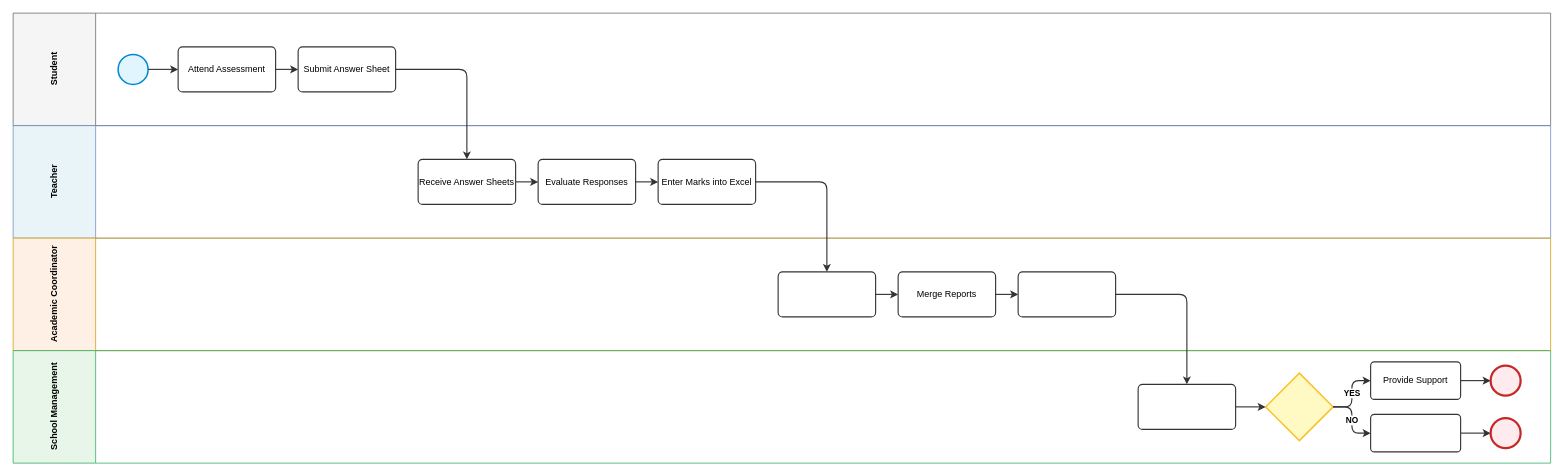
Image size: 1564x476. Some labels were removed from this diagram. Here are the shapes that lost their labels. From the top down, the centre of each, then its label:
At (x=826, y=294): "Collect Excel Files".
At (x=1066, y=294): "Generate Performance Report".
At (x=1186, y=406): "Review Report".
At (x=1299, y=406): "Students Need Intervention?".
At (x=1415, y=432): "Continue Monitoring".
